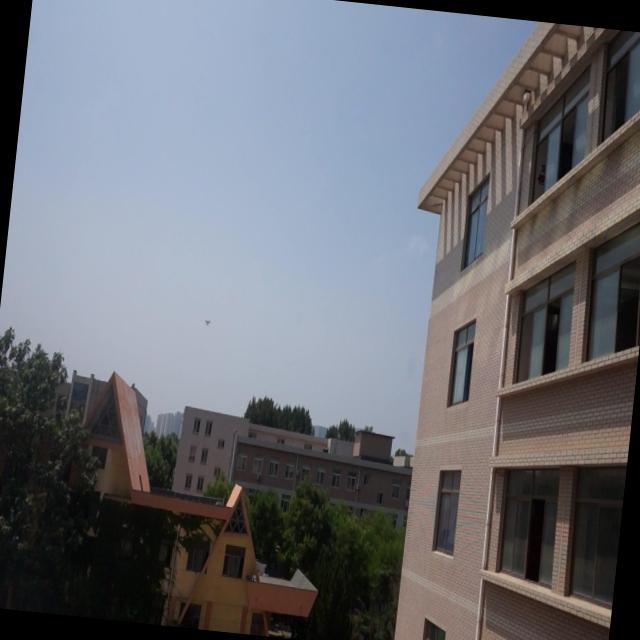drone: (202, 311, 212, 329)
